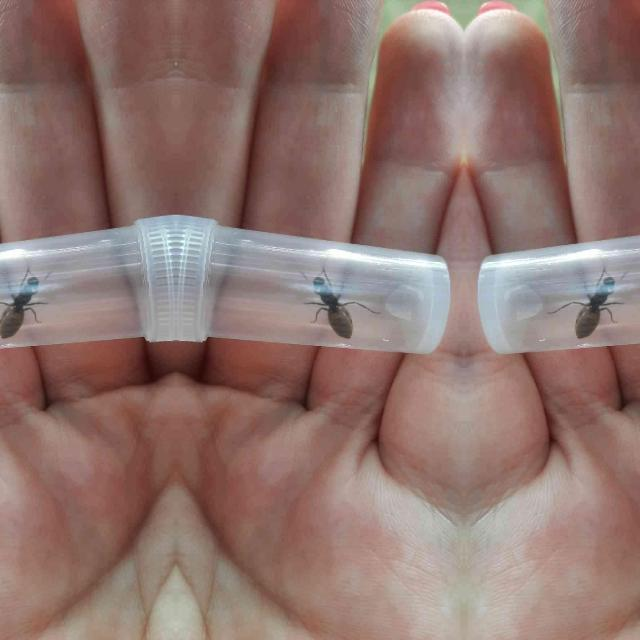Lasius: (298, 266, 366, 342), (560, 266, 628, 342), (0, 266, 52, 342)
